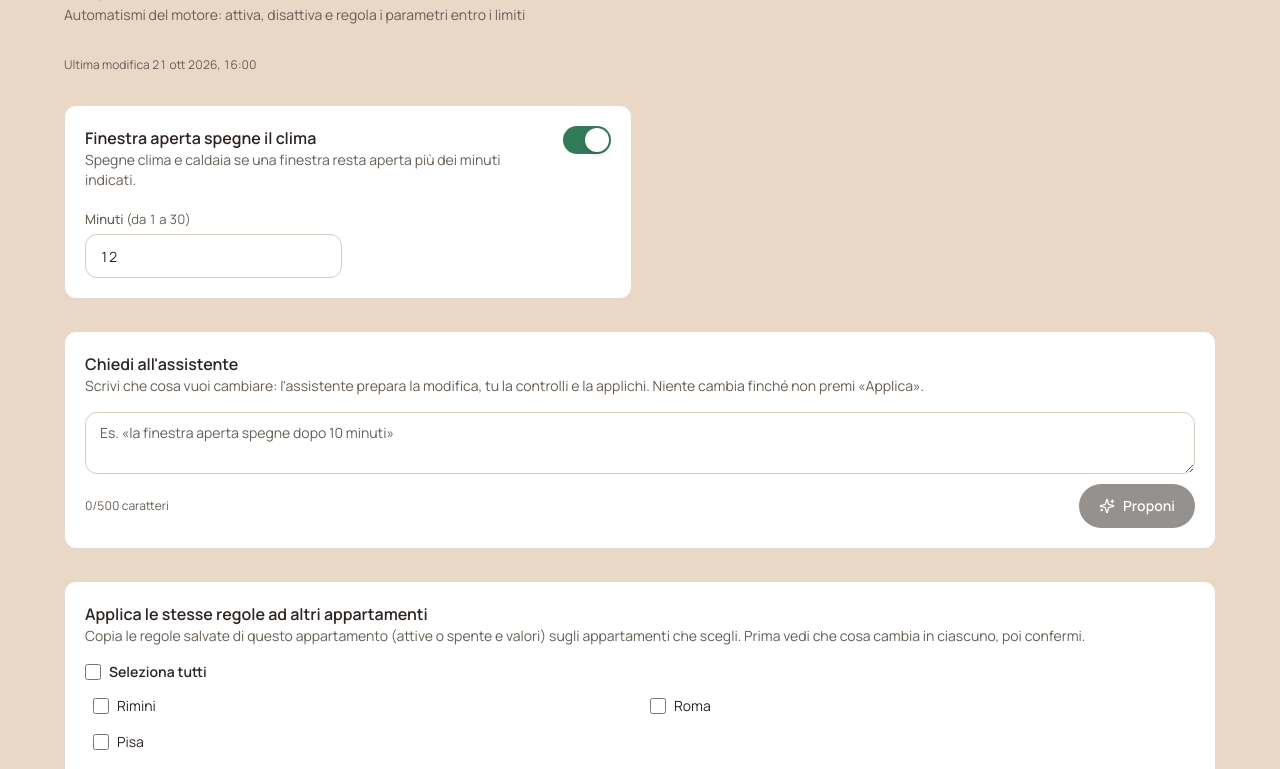
Test: Regole: copia su altri appartamenti (D-151) › modifiche fatte a mano non salvate: l'anteprima aspetta, con la spiegazione
Expected: the element with test id "rule-card-window_open_off" is shown, [64,105,632,299]
Click the checkbox with test id "rules-copy-target-apt-rimini-01". click: click(101, 706)
box: [93,698,109,714]
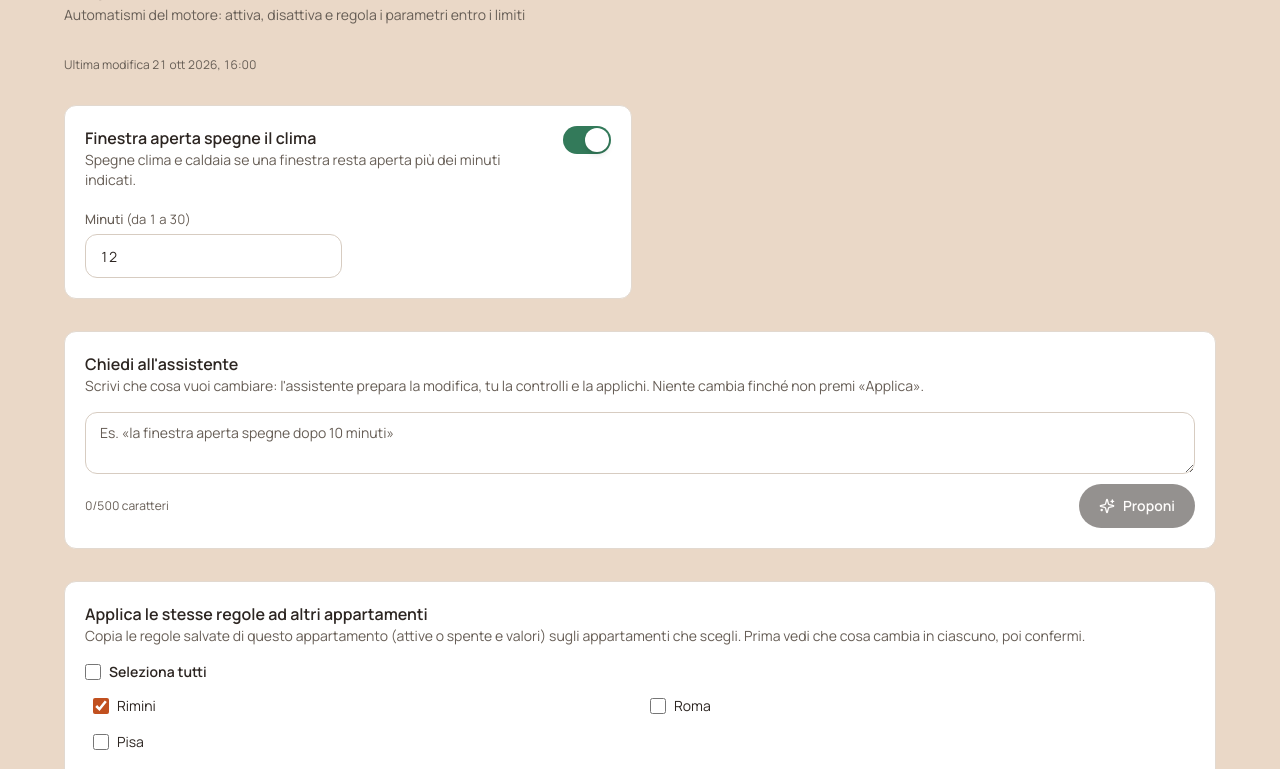
Replace the text in the number field with test id "rule-param-window_open_off-minutes" with "7". click: (214, 256)
box: [85,234,342,278]
(page scrolled)
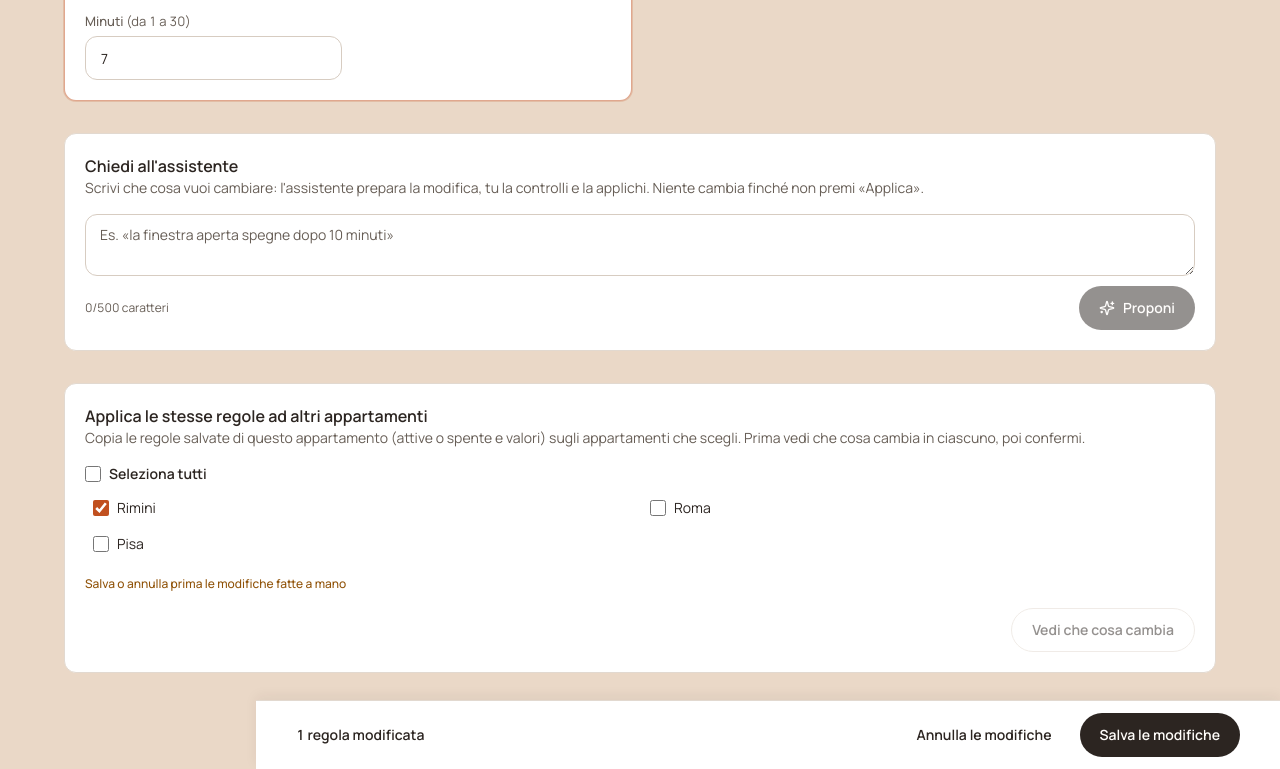
Now the text with test id "rules-copy-unsaved" reads "Salva o annulla prima le modifiche fatte a mano", box [85,575,346,592]
Now the button with test id "rules-copy-preview" is disabled, box [1011,608,1195,652]
